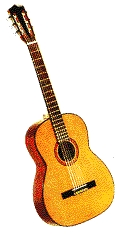guitar: (6, 3, 115, 228)
